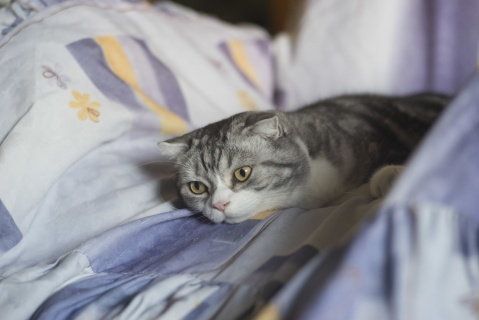Cat: (140, 88, 456, 229)
